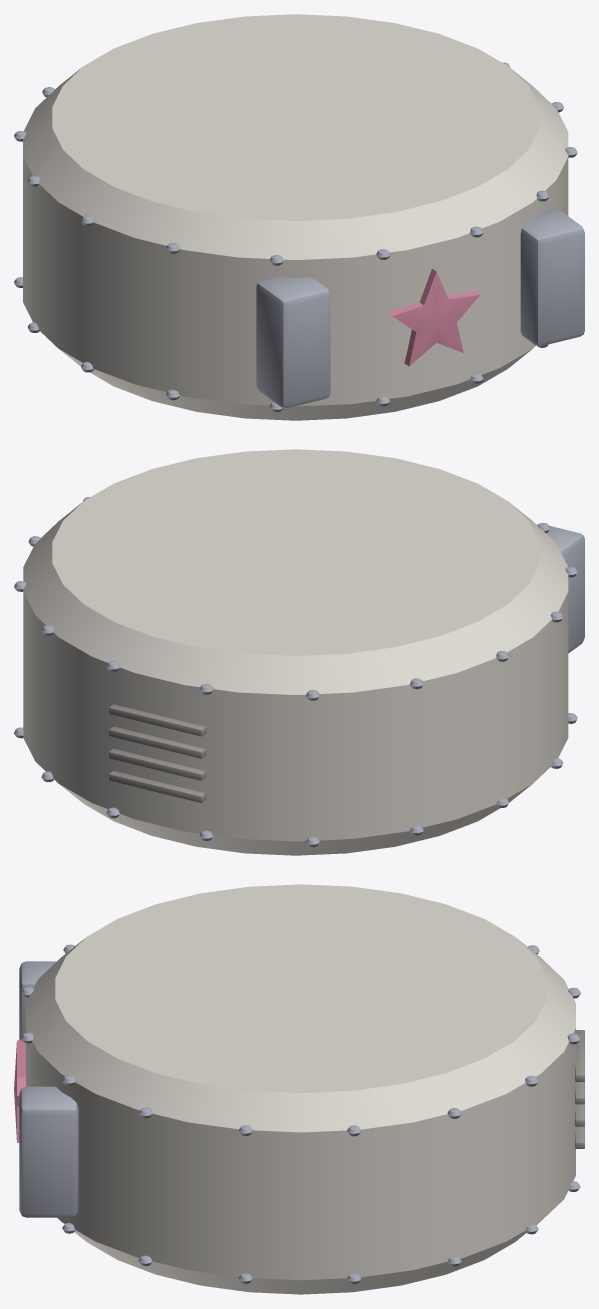
Rendered from Bot_Plate_1.fbx.
3 renders of one model, top to bottom at view 1: azimuth 30°, elevation 25°; view 2: azimuth 150°, elevation 25°; view 3: azimuth 270°, elevation 25°, orthographic.
Parts seen in each view (by area): view 1: Bot_Plate_1; view 2: Bot_Plate_1; view 3: Bot_Plate_1.
Boxes of the visible parts, x1=… form: Bot_Plate_1: x1=14, y1=14, x2=584, y2=420; Bot_Plate_1: x1=14, y1=449, x2=584, y2=855; Bot_Plate_1: x1=14, y1=884, x2=584, y2=1294.
Size of the model in its own units: 0.2268 by 0.09 by 0.2312.
